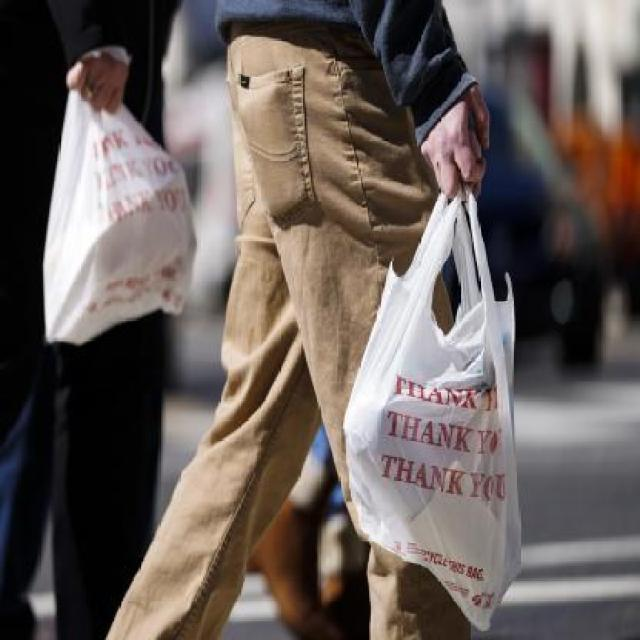plastic bag: (343, 176, 535, 634), (43, 80, 202, 365)
